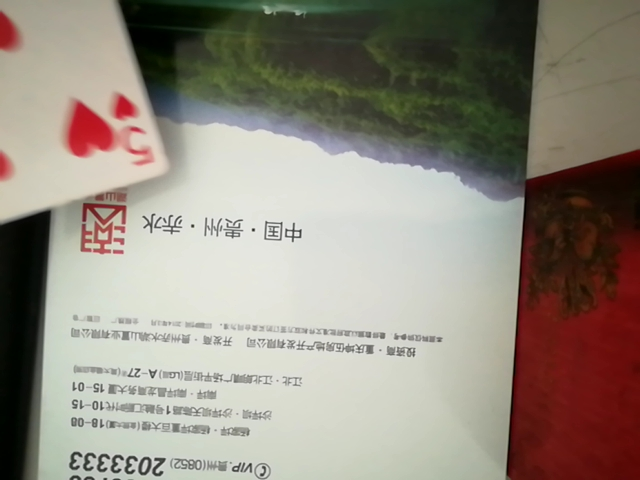hx 5: (0, 0, 175, 289)
